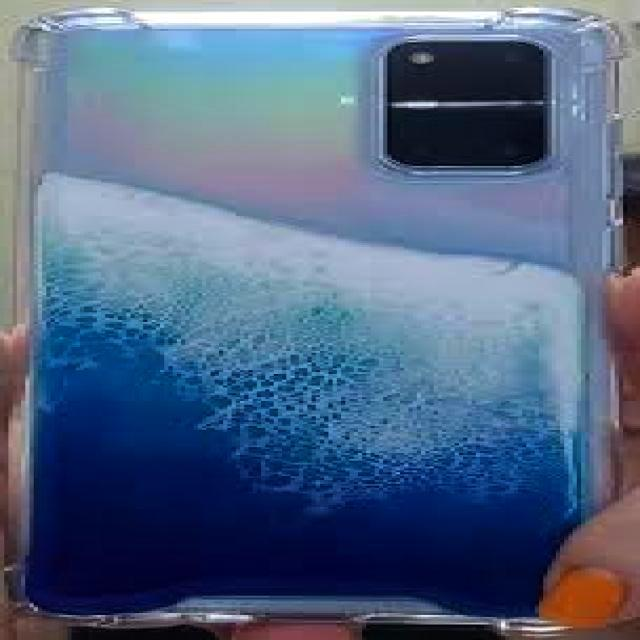lens: (383, 38, 553, 175)
phone: (18, 12, 623, 633)
